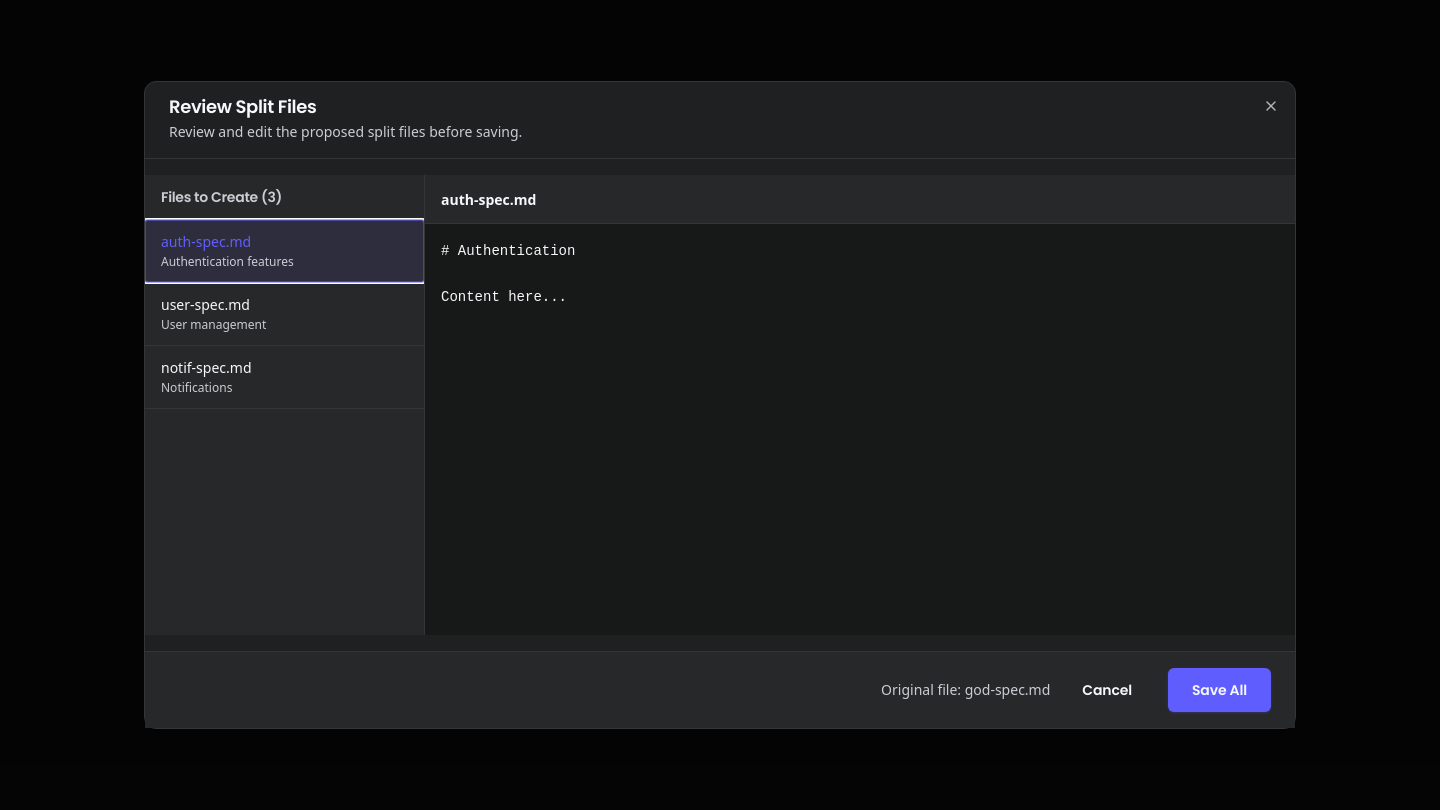
Scenario: SplitPreviewModal › splitPreview_SaveAllWritesFiles › should display error when save fails
The width and height of the screenshot is (1440, 810).
Click the button with test id "save-all-button" at [1219, 690], box [1168,668,1271,712]
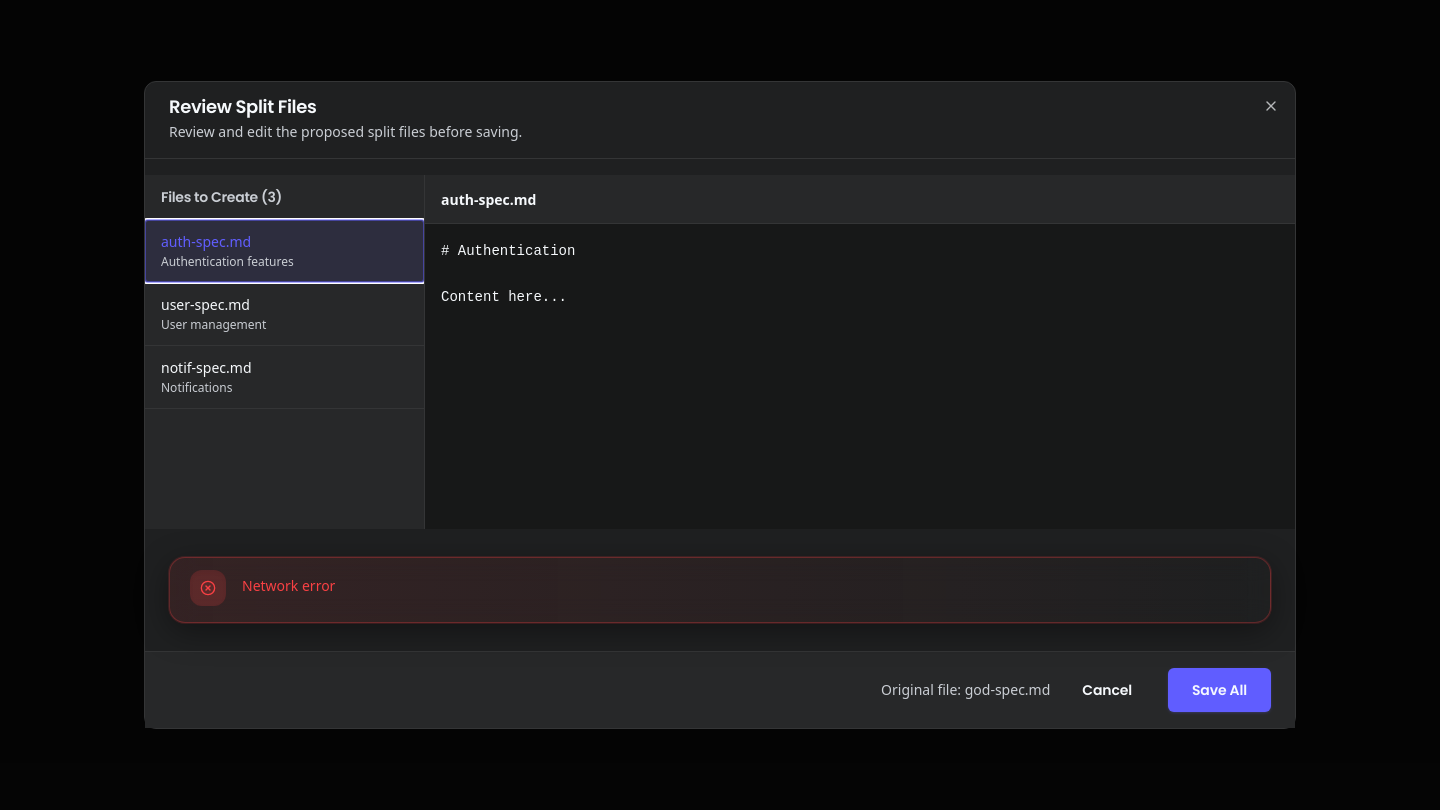
Check: the element with test id "save-error" reads "Network error", box [242,576,335,595]
